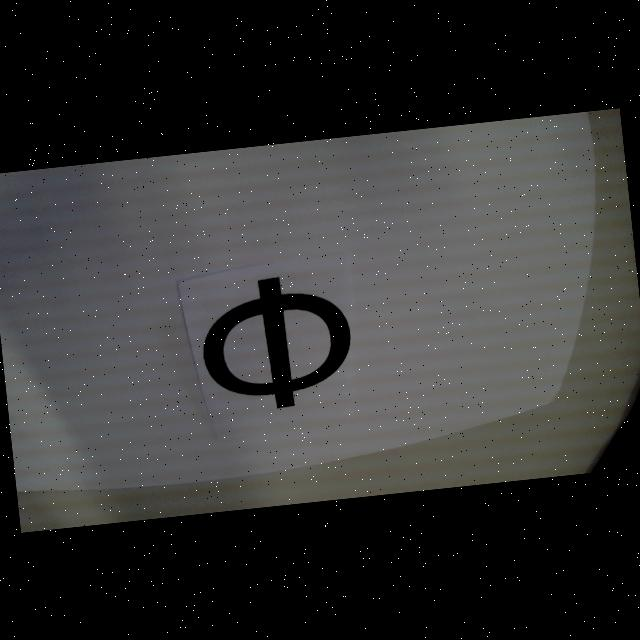PHI: (196, 268, 357, 415)
